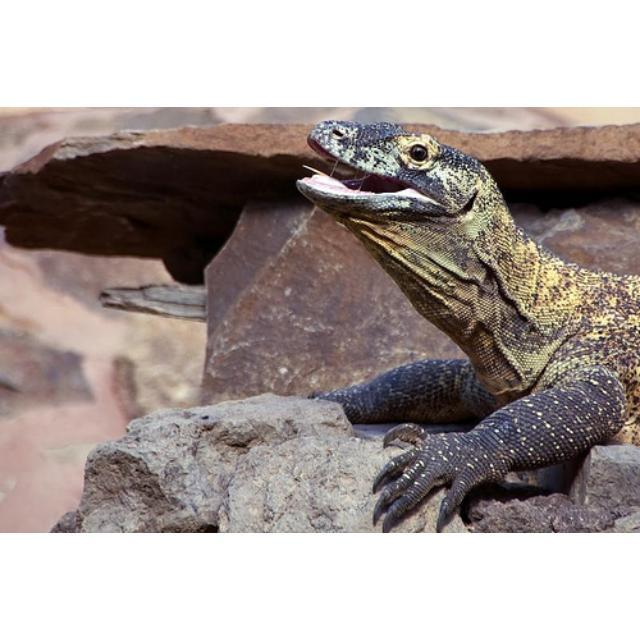KomodoDragon: (289, 115, 638, 531)
